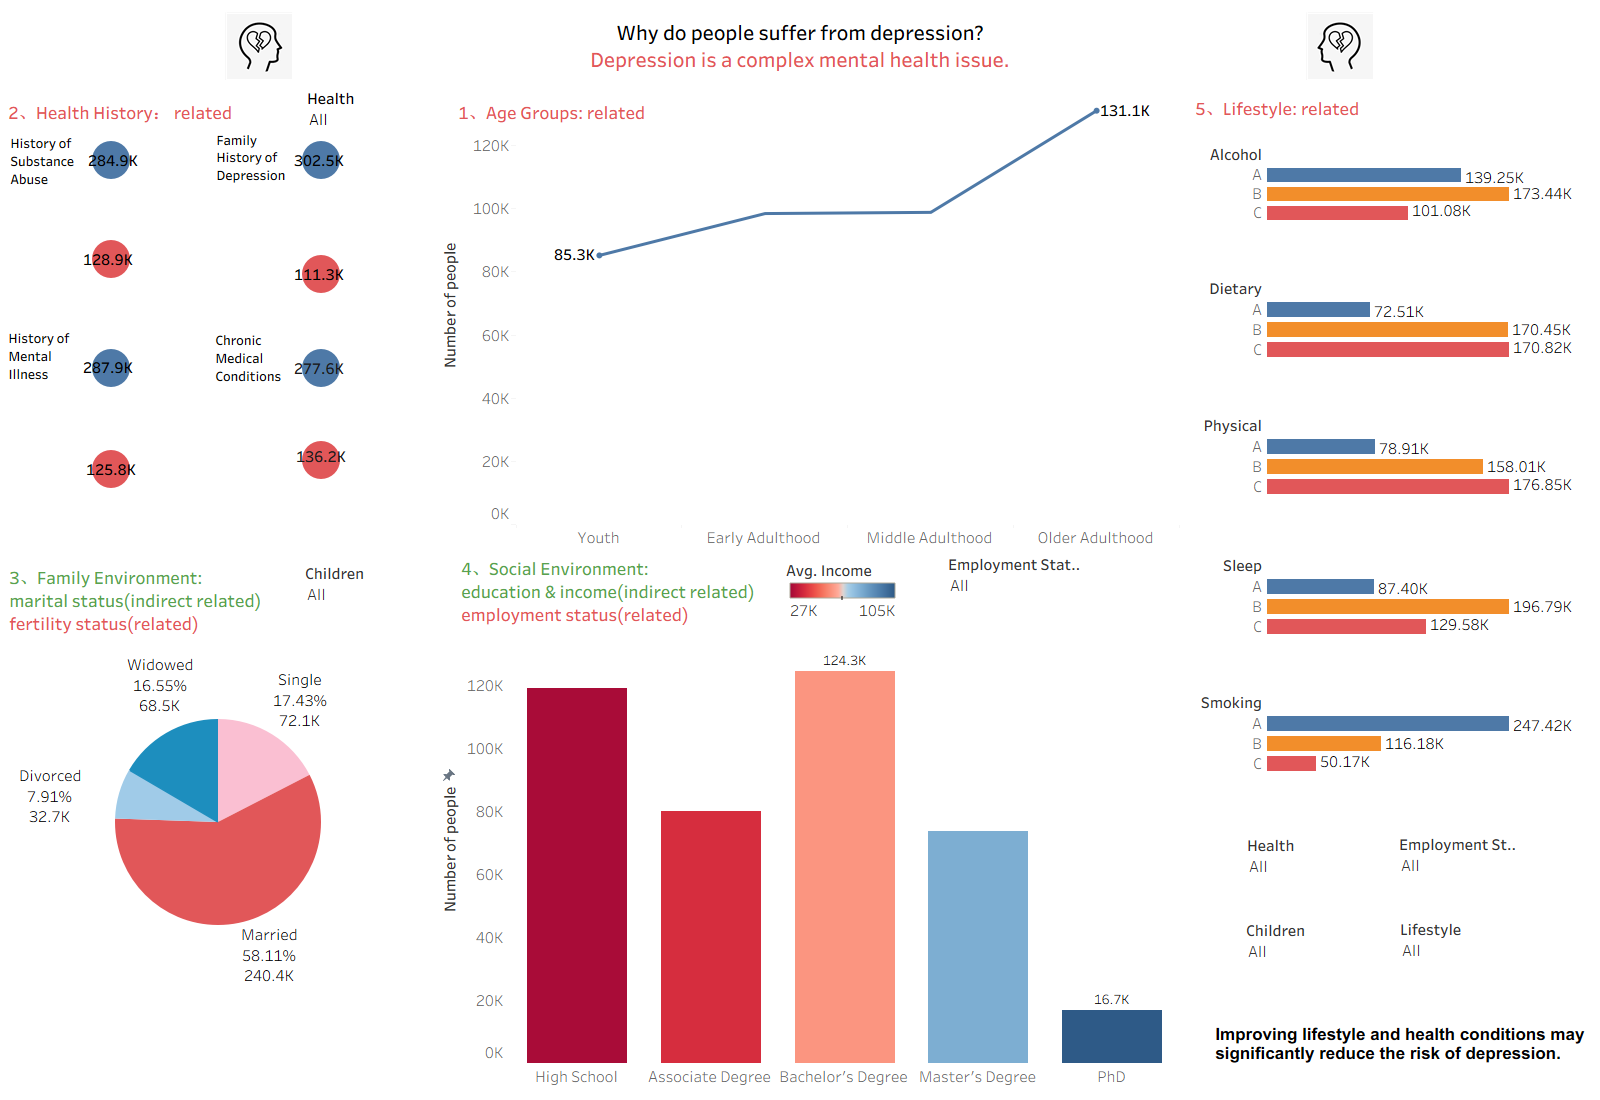

The dashboard page shown, as its layout file describes it:
{"tool":"tableau","page":{"name":"Dashboard","canvas":[1600,1200],"ordinal":0},"visuals":[{"type":"image","param":"C:/Users/ruyi4/Desktop/Depression_Tableau_Dashboard/depression_symbol_right.png","box":[8,8,495.3,83]},{"type":"text","box":[503.3,8,593.3,83]},{"type":"image","param":"C:/Users/ruyi4/Desktop/Depression_Tableau_Dashboard/depression_symbol_left.png","box":[1096.7,8,495.3,83]},{"type":"worksheet","title":"Age group","mark":"Line","rows":["Calculation_2266718009563893760"],"cols":["Calculation_2540311689358204928"],"box":[439,91,744,511.2]},{"type":"filter","title":"Health History(1)","param":"[federated.1tyk3pc1l7lli91gi3z061jzdv4x].[none:Calculation_2266718009566380033:n","box":[307,94.8,117,68.4]},{"type":"text","box":[455,98.2,232,49.1]},{"type":"text","box":[1193,103,241,43]},{"type":"text","box":[5,104.4,283,34.8]},{"type":"text","box":[213,134,97,75]},{"type":"text","box":[7,141,145,70]},{"type":"worksheet","title":"Lifestyle ","mark":"Automatic","rows":["Calculation_2266718009593991172"],"cols":["Calculation_2266718009563893760"],"box":[1183,165.6,409,134]},{"type":"worksheet","title":"Health History(1)","mark":"Circle","rows":["Calculation_2266718009563893760","Calculation_2266718009563893760"],"box":[8,186,213,416.2]},{"type":"worksheet","title":"Health History(2)","mark":"Circle","rows":["Calculation_2266718009563893760","Calculation_2266718009563893760"],"box":[221,186,218,416.2]},{"type":"worksheet","title":"Lifestyle （2）","mark":"Automatic","rows":["Calculation_2266718009594572805"],"cols":["Calculation_2266718009563893760"],"box":[1183,299.6,409,149.6]},{"type":"text","box":[212,350,106,81]},{"type":"text","box":[5,351,142,74]},{"type":"worksheet","title":"Lifestyle （3）","mark":"Automatic","rows":["Calculation_2266718009594937350"],"cols":["Calculation_2266718009563893760"],"box":[1183,449.3,409,123]},{"type":"text","box":[6,597,323,111]},{"type":"text","box":[458,600,369,93]},{"type":"filter","title":"Social Environment ","param":"[federated.1tyk3pc1l7lli91gi3z061jzdv4x].[none:Employment Status:nk]","box":[976,600,132,74]},{"type":"worksheet","title":"Family Environment","mark":"Pie","box":[8,602.2,431,589.8]},{"type":"worksheet","title":"Lifestyle （4）","mark":"Automatic","rows":["Calculation_2266718009595404295"],"cols":["Calculation_2266718009563893760"],"box":[1183,602.2,409,149.6]},{"type":"legend","title":"Social Environment ","param":"[federated.1tyk3pc1l7lli91gi3z061jzdv4x].[avg:Income:qk]","box":[831,604,114,81]},{"type":"filter","title":"Family Environment","param":"[federated.1tyk3pc1l7lli91gi3z061jzdv4x].[none:Number of Children:nk]","box":[318,611,119,80]},{"type":"worksheet","title":"Social Environment ","mark":"Automatic","rows":["Calculation_2266718009563893760"],"cols":["Education Level"],"box":[439,690.2,744,501.8]},{"type":"worksheet","title":"Lifestyle （5）","mark":"Automatic","rows":["Calculation_2266718009595940872"],"cols":["Calculation_2266718009563893760"],"box":[1183,751.8,409,119]},{"type":"filter","title":"Lifestyle ","param":"[federated.1tyk3pc1l7lli91gi3z061jzdv4x].[none:Employment Status:nk]","box":[1399,908.4,118,91.2]},{"type":"filter","title":"Lifestyle ","param":"[federated.1tyk3pc1l7lli91gi3z061jzdv4x].[none:Calculation_2266718009566380033:n","box":[1247,909.6,108,81.6]},{"type":"filter","title":"Lifestyle （2）","param":"[federated.1tyk3pc1l7lli91gi3z061jzdv4x].[none:Calculation_2266718009589673987:n","box":[1400,1001.5,117,77.5]},{"type":"filter","title":"Lifestyle ","param":"[federated.1tyk3pc1l7lli91gi3z061jzdv4x].[none:Number of Children:nk]","box":[1246,1002,105,76.8]},{"type":"text","box":[1212,1088.4,382,100.8]}]}

Visuals, with their boxes on the page's 1600x1200 design canvas (x1, y1, x2, y2). These are canvas units, not pixel positions in the 1600x1100 screenshot, which may show the page scaled, cropped or inside an application window:
image: select_region(8, 8, 503, 91)
text: select_region(503, 8, 1097, 91)
image: select_region(1097, 8, 1592, 91)
"Age group" worksheet (Line marks): select_region(439, 91, 1183, 602)
"Health History(1)" filter: select_region(307, 95, 424, 163)
text: select_region(455, 98, 687, 147)
text: select_region(1193, 103, 1434, 146)
text: select_region(5, 104, 288, 139)
text: select_region(213, 134, 310, 209)
text: select_region(7, 141, 152, 211)
"Lifestyle " worksheet: select_region(1183, 166, 1592, 300)
"Health History(1)" worksheet (Circle marks): select_region(8, 186, 221, 602)
"Health History(2)" worksheet (Circle marks): select_region(221, 186, 439, 602)
"Lifestyle （2）" worksheet: select_region(1183, 300, 1592, 449)
text: select_region(212, 350, 318, 431)
text: select_region(5, 351, 147, 425)
"Lifestyle （3）" worksheet: select_region(1183, 449, 1592, 572)
text: select_region(6, 597, 329, 708)
text: select_region(458, 600, 827, 693)
"Social Environment " filter: select_region(976, 600, 1108, 674)
"Family Environment" worksheet (Pie marks): select_region(8, 602, 439, 1192)
"Lifestyle （4）" worksheet: select_region(1183, 602, 1592, 752)
"Social Environment " legend: select_region(831, 604, 945, 685)
"Family Environment" filter: select_region(318, 611, 437, 691)
"Social Environment " worksheet: select_region(439, 690, 1183, 1192)
"Lifestyle （5）" worksheet: select_region(1183, 752, 1592, 871)
"Lifestyle " filter: select_region(1399, 908, 1517, 1000)
"Lifestyle " filter: select_region(1247, 910, 1355, 991)
"Lifestyle （2）" filter: select_region(1400, 1002, 1517, 1079)
"Lifestyle " filter: select_region(1246, 1002, 1351, 1079)
text: select_region(1212, 1088, 1594, 1189)
